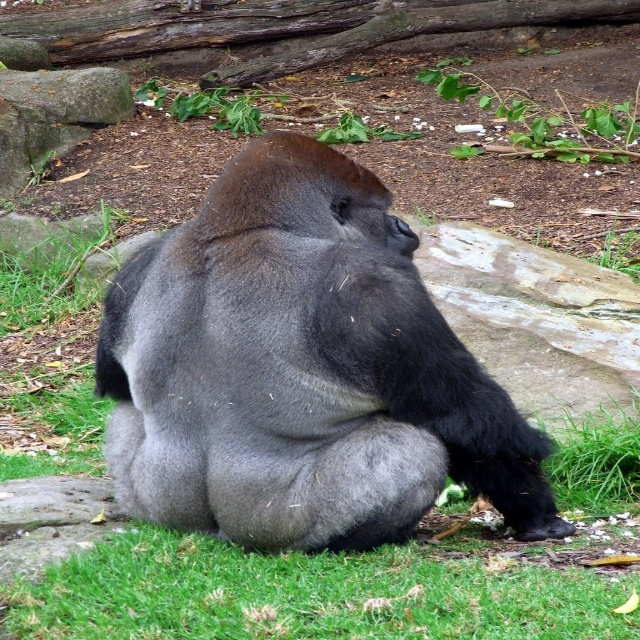Monkey: (105, 151, 594, 570)
